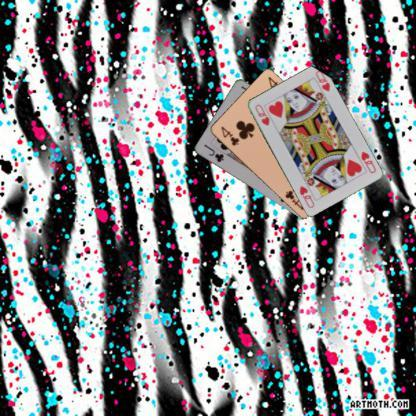4c: (218, 124, 240, 146)
Jc: (201, 141, 224, 164)
Qh: (358, 148, 378, 174), (252, 102, 270, 127)
